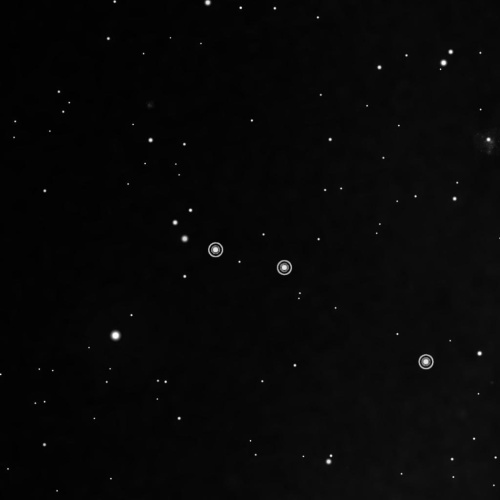vulpecula: (200, 235, 442, 376)
